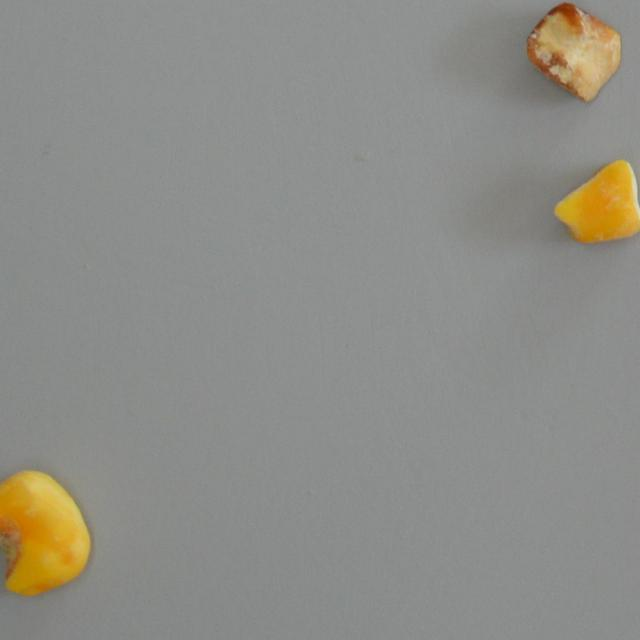dañado: (0, 460, 104, 609), (516, 0, 626, 106), (550, 154, 640, 248)
